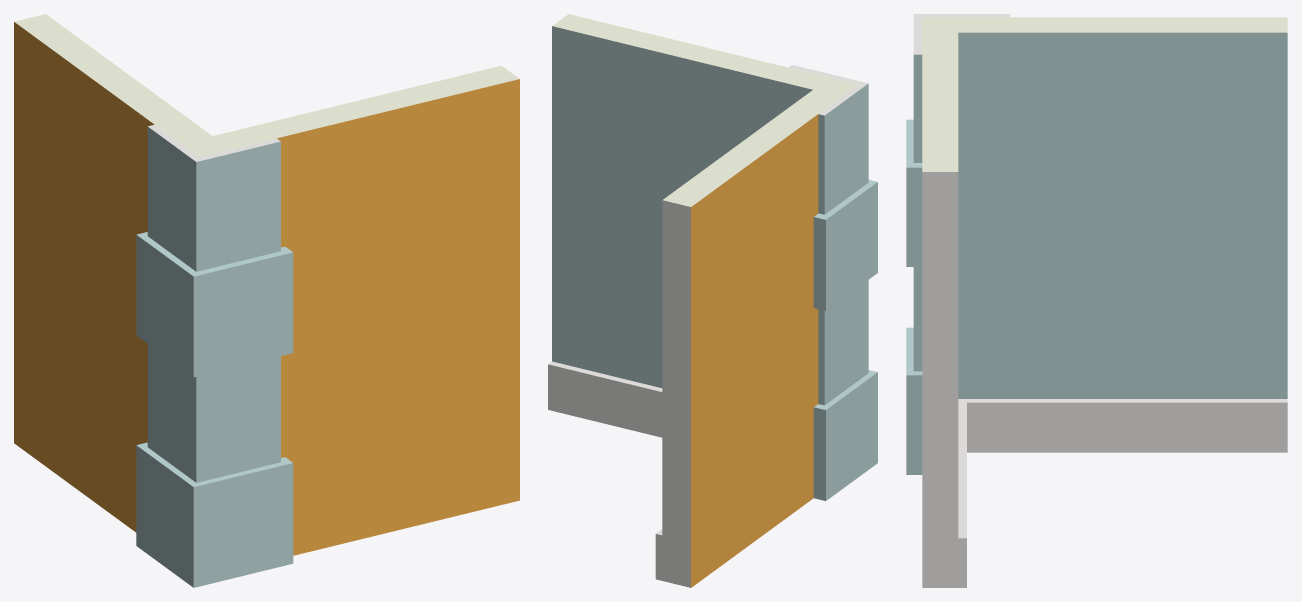
File: Corner.fbx
3 views of the same model, side by side, from view 1: azimuth 30°, elevation 25°; view 2: azimuth 150°, elevation 25°; view 3: azimuth 270°, elevation 25° (orthographic). The views are drawn at different scales.
Visible parts, largest first — view 1: 10.004; view 2: 10.004; view 3: 10.004.
Boxes of the visible parts, box(x1,y1,x2,y2) form: 10.004: box(14, 14, 519, 587); 10.004: box(548, 14, 877, 587); 10.004: box(906, 14, 1287, 587).
Size of the model in its own units: 208 by 251 by 209.
1 material, 1 textured.
